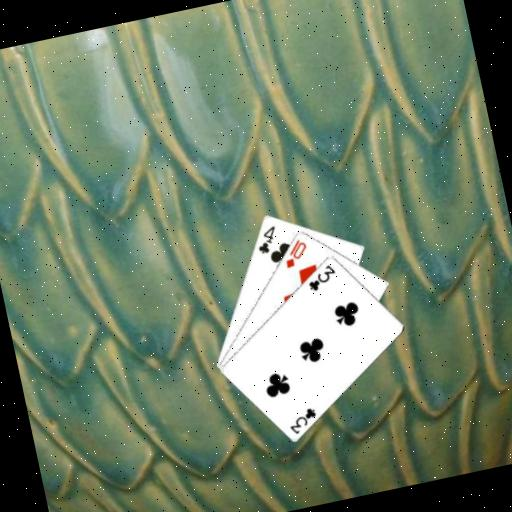10D: (278, 234, 312, 270)
3C: (283, 403, 321, 437), (301, 260, 339, 293)
4C: (250, 221, 281, 256)
